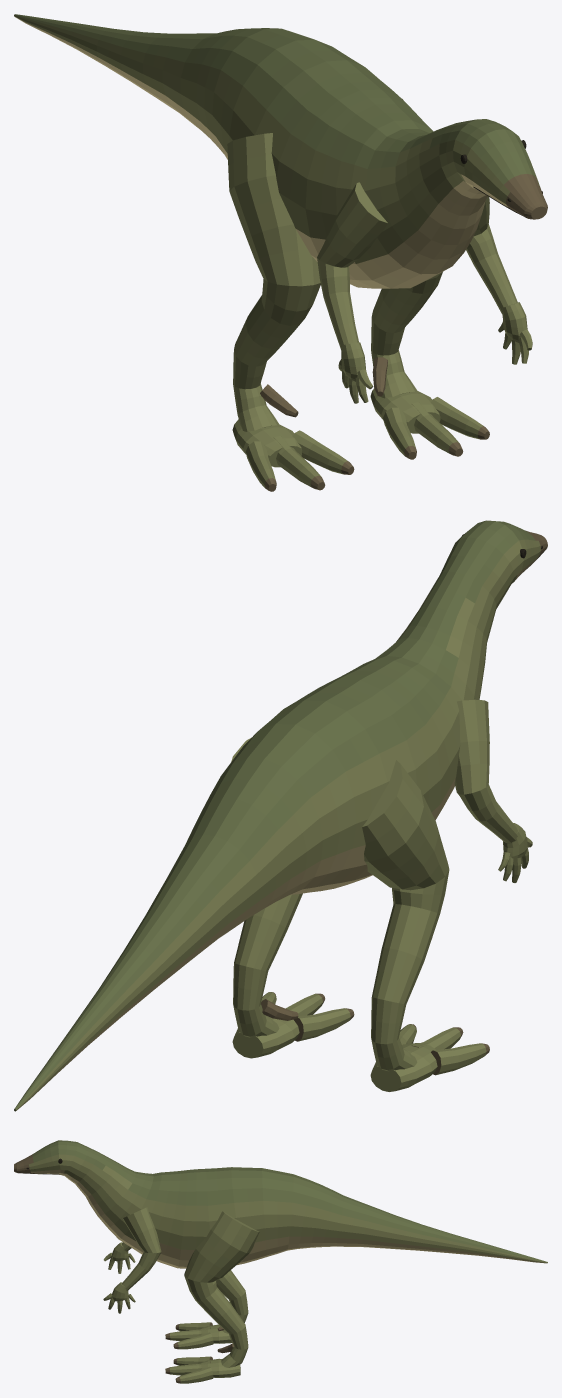
3 views of the same model, one above another, from view 1: azimuth 30°, elevation 25°; view 2: azimuth 150°, elevation 25°; view 3: azimuth 270°, elevation 25° (orthographic). The views are drawn at different scales.
Parts seen in each view (by area): view 1: continuous_axial_skin, L_hindlimb, L_forelimb, R_hindlimb, R_forelimb, L_metatarsal_pad, R_metatarsal_pad, L_pes_II, L_pes_III, R_pes_III, R_pes_IV, R_pes_II (+3 smaller); view 2: continuous_axial_skin, L_hindlimb, R_hindlimb, L_forelimb, L_metatarsal_pad, R_metatarsal_pad, R_pes_II, L_pes_IV; view 3: continuous_axial_skin, R_hindlimb, R_forelimb, L_hindlimb, R_metatarsal_pad, L_pes_II, R_pes_IV, L_metatarsal_pad, R_pes_III, L_pes_III.
Part boxes in pixels (x1,y1,x2,y2): continuous_axial_skin: [14, 14, 547, 288]; L_hindlimb: [227, 133, 320, 431]; L_forelimb: [317, 182, 387, 349]; R_hindlimb: [371, 99, 442, 398]; R_forelimb: [466, 196, 517, 313]; L_metatarsal_pad: [232, 419, 302, 467]; R_metatarsal_pad: [370, 388, 440, 433]; L_pes_II: [292, 430, 354, 474]; L_pes_III: [273, 435, 325, 490]; R_pes_III: [411, 402, 463, 456]; R_pes_IV: [430, 397, 489, 439]; R_pes_II: [383, 407, 416, 459]; continuous_axial_skin: [14, 520, 547, 1111]; L_hindlimb: [362, 760, 449, 1071]; R_hindlimb: [231, 737, 302, 1037]; L_forelimb: [454, 699, 517, 842]; L_metatarsal_pad: [370, 1043, 437, 1091]; R_metatarsal_pad: [232, 1016, 299, 1058]; R_pes_II: [293, 1008, 354, 1041]; L_pes_IV: [431, 1043, 489, 1075]; continuous_axial_skin: [14, 1140, 547, 1268]; R_hindlimb: [184, 1211, 259, 1367]; R_forelimb: [122, 1207, 161, 1290]; L_hindlimb: [216, 1270, 248, 1333]; R_metatarsal_pad: [201, 1358, 240, 1377]; L_pes_II: [173, 1332, 213, 1349]; R_pes_IV: [175, 1366, 213, 1383]; L_metatarsal_pad: [201, 1324, 232, 1343]; R_pes_III: [165, 1361, 210, 1375]; L_pes_III: [165, 1327, 210, 1340].
Bounding box in the file's own units: 1.22 × 2.24 × 5.
